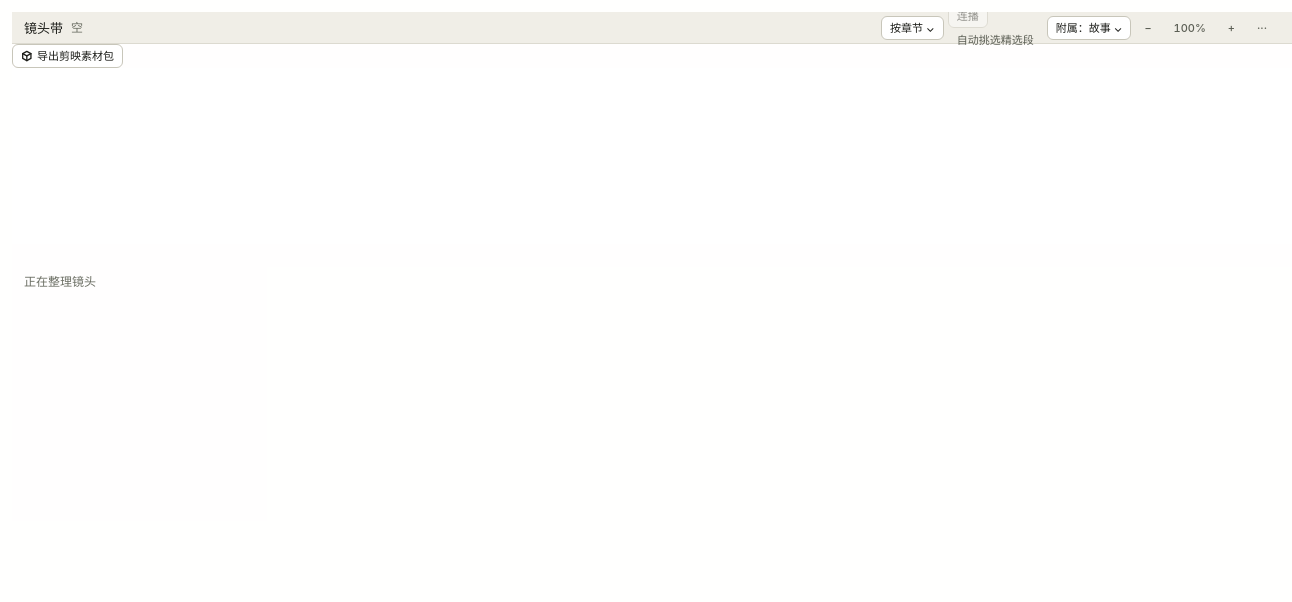
Test: 附属面板(R9 套件皮) › 音乐:没有曲目时是套件空状态,唯一动作是「导入音乐」
Click the button "附属：故事 ⌄".
click(1089, 28)  # box x1=1047 y1=16 x2=1131 y2=40
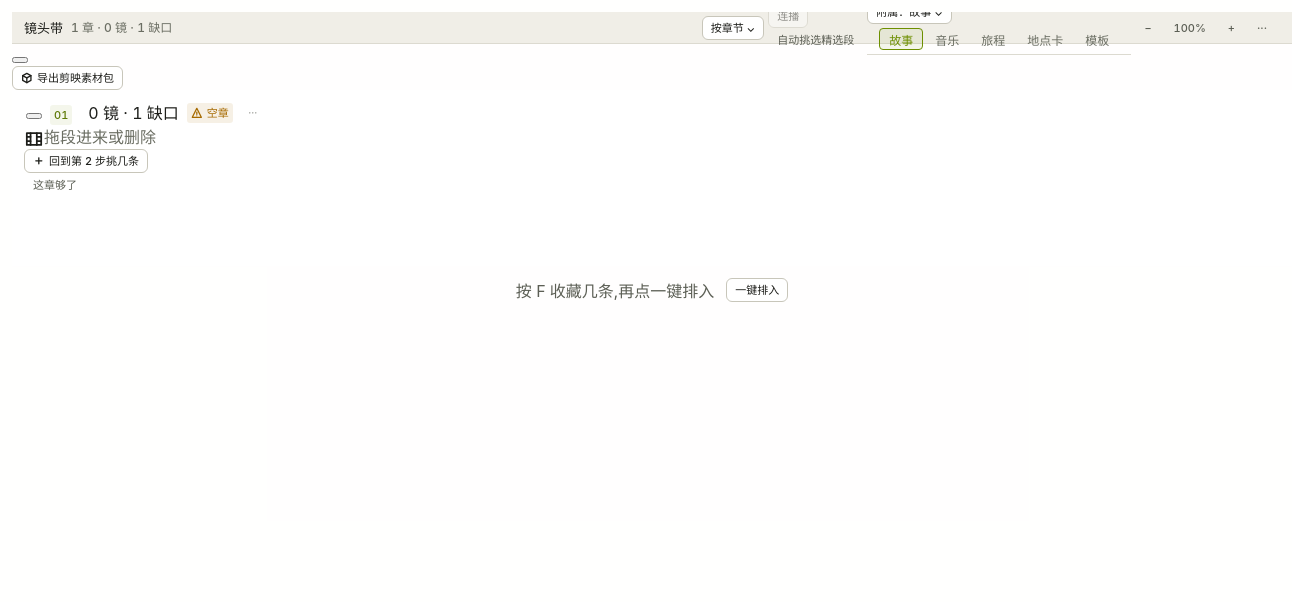
Now the element named "镜头带附属视图" is shown, box x1=867 y1=24 x2=1131 y2=55
Click the tab "音乐".
click(947, 39)  # box x1=925 y1=28 x2=969 y2=50
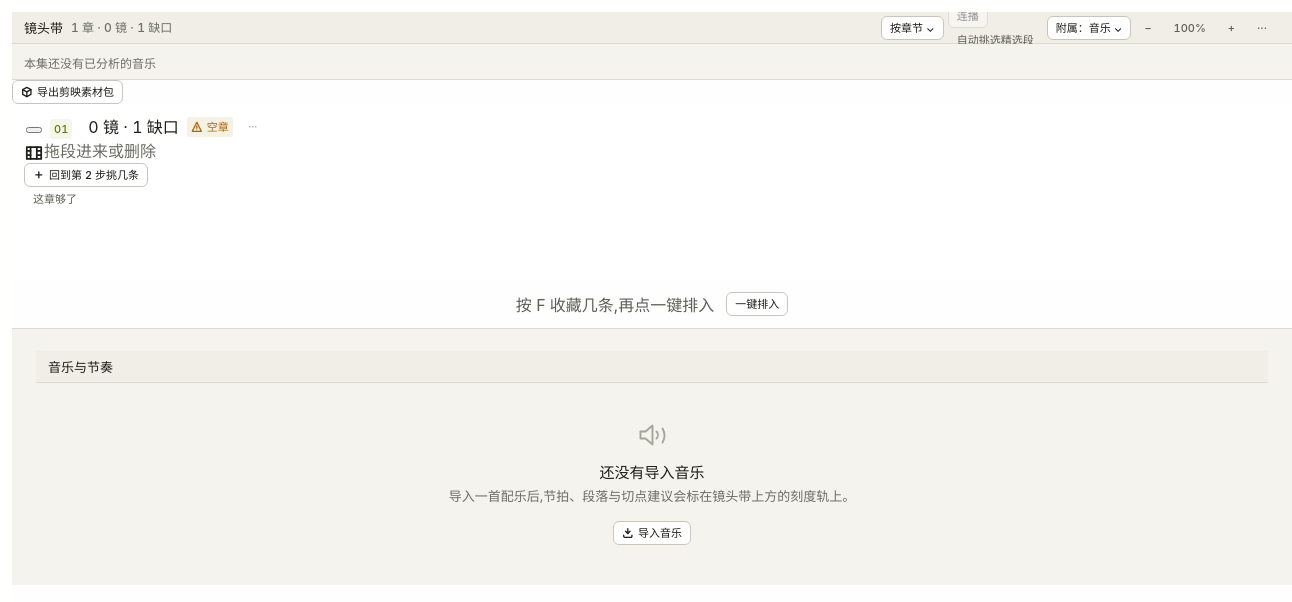
Now the number of buttons "导入音乐" is 1, box x1=613 y1=521 x2=691 y2=545
Now the text "还没有导入音乐" is shown, box x1=600 y1=463 x2=704 y2=482
